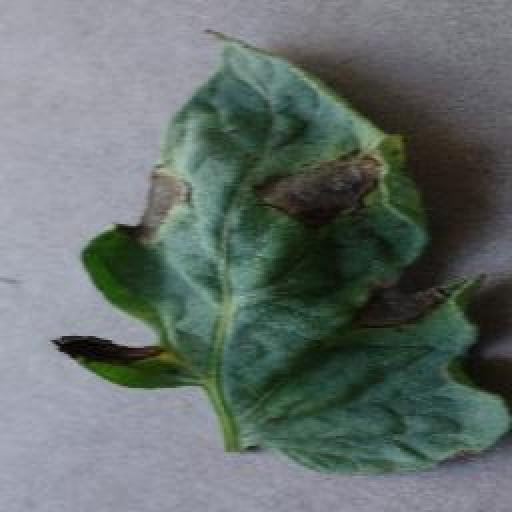Early Blight: (54, 26, 511, 474)
